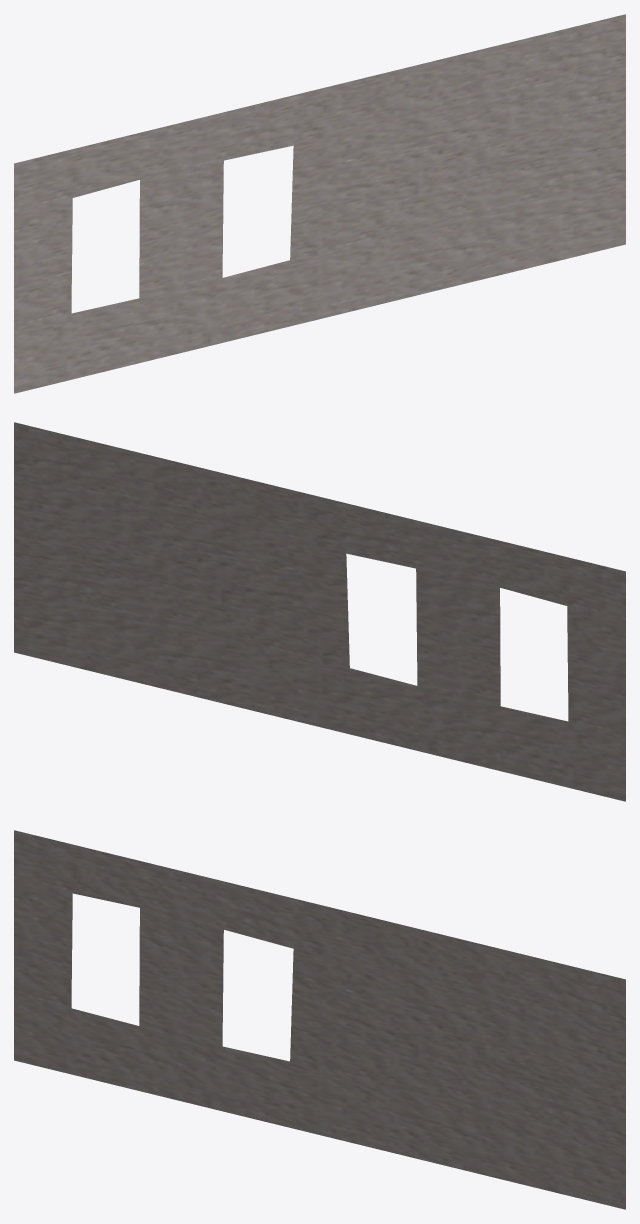
The model's file is W_AI2r_ffxx_2370.glb.
3 views of the same model, one above another, from view 1: azimuth 30°, elevation 25°; view 2: azimuth 150°, elevation 25°; view 3: azimuth 330°, elevation 25° (orthographic).
Visible parts, largest first — view 1: polySurfaceShape894; view 2: polySurfaceShape894; view 3: polySurfaceShape894.
Part boxes in pixels (x1,y1,x2,y2): polySurfaceShape894: [14, 14, 625, 393]; polySurfaceShape894: [14, 422, 625, 801]; polySurfaceShape894: [14, 830, 625, 1209].
Size of the model in its own units: 0.9692 by 0.3486 by 1.52e-08.
1 material, 1 textured.
